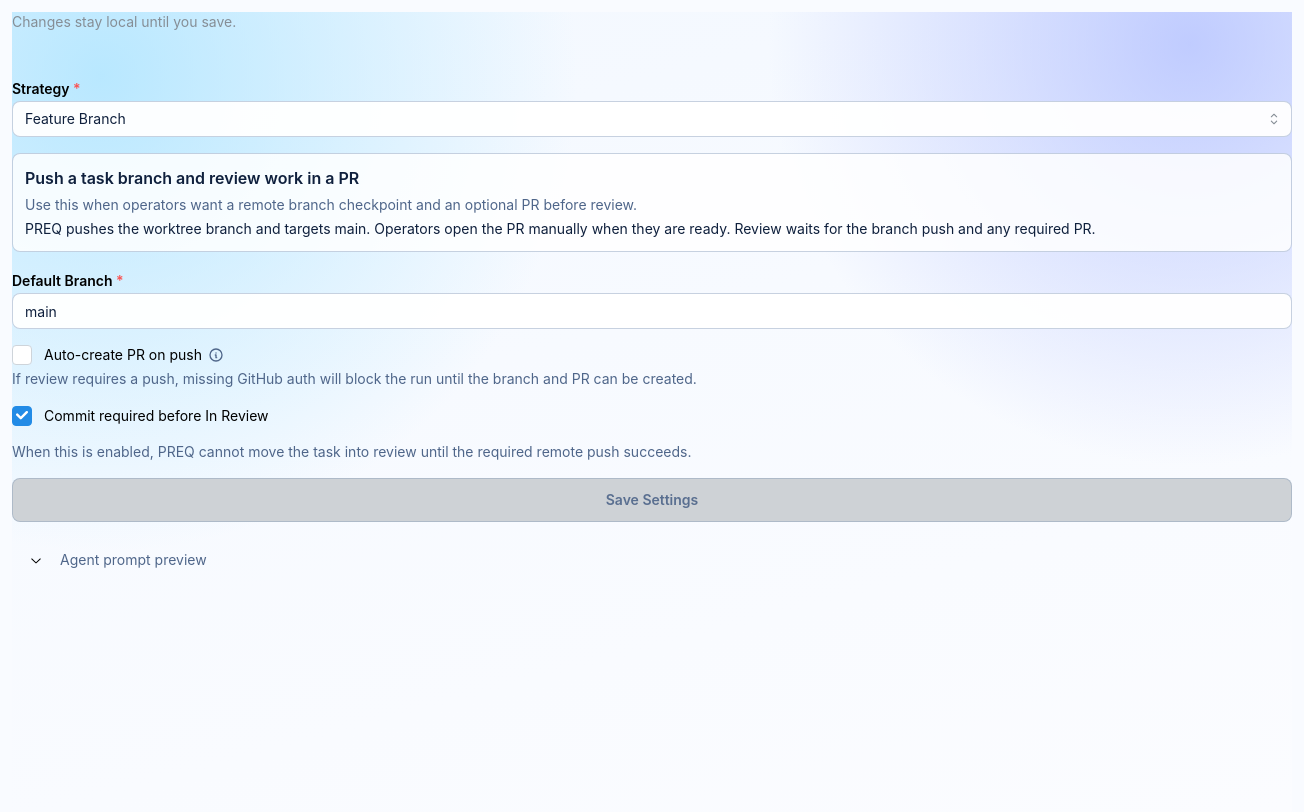
app/components/panels/deploy-settings-panel › keeps the form dirty when edits continue after save starts
Type "release" into the field labelled "Default Branch *" at (652, 311), box top-left (12, 293), bottom-right (1292, 329)
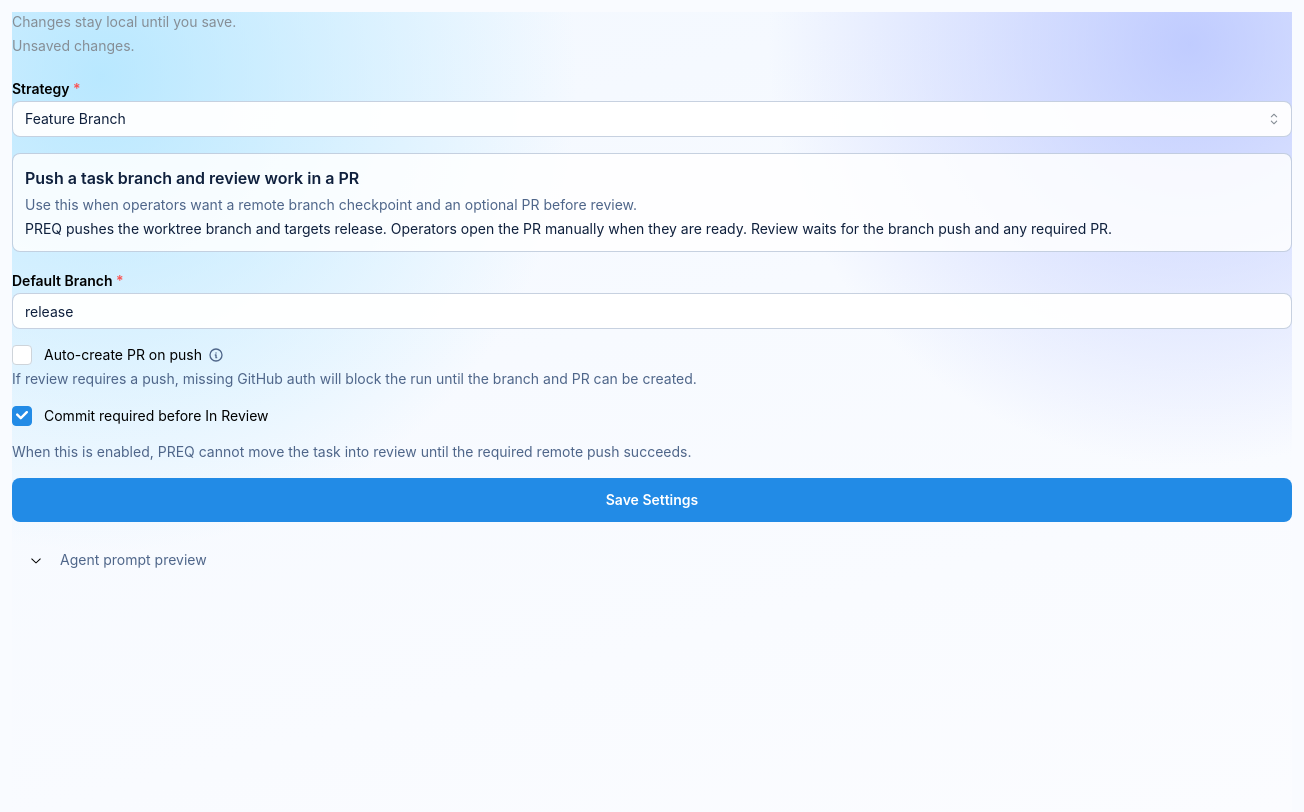
Submit the form named "Default Branch"
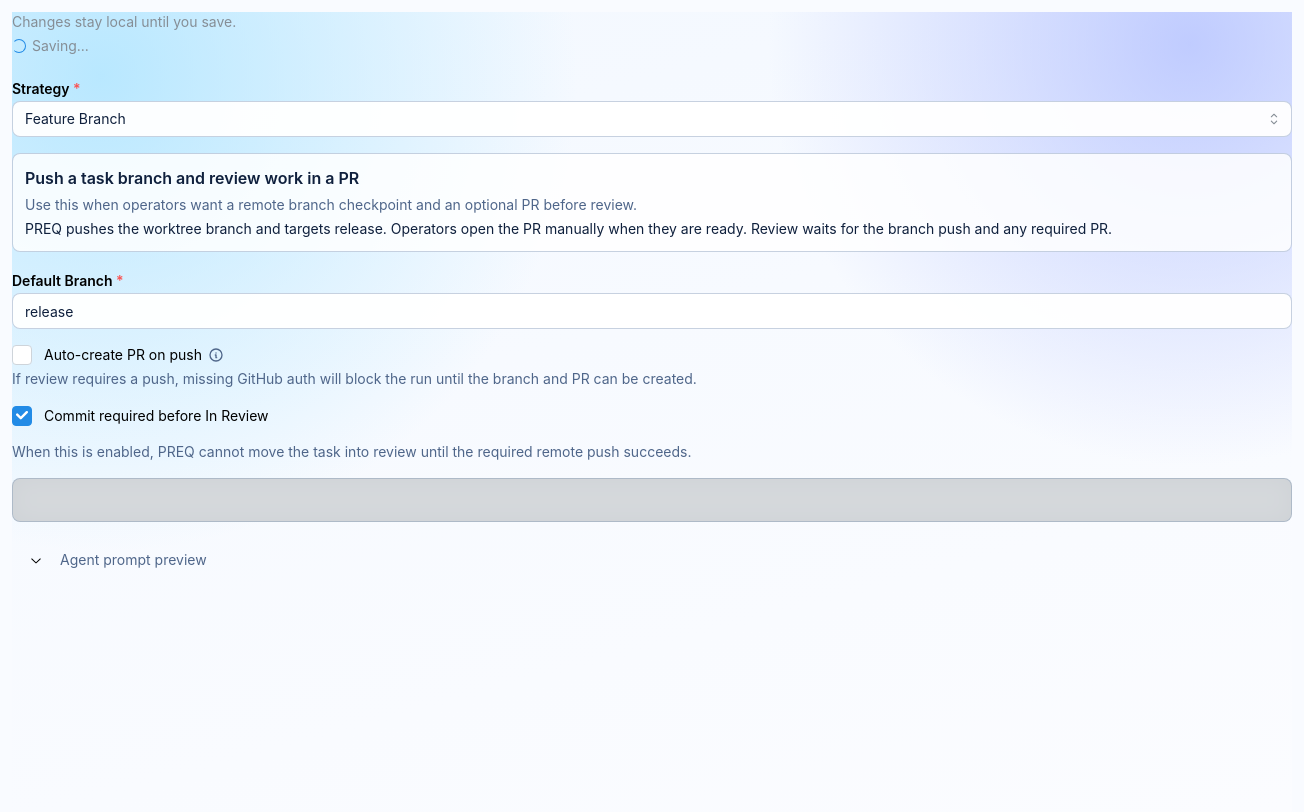
Replace the text in the field labelled "Default Branch *" with "release-candidate" at (652, 311), box top-left (12, 293), bottom-right (1292, 329)
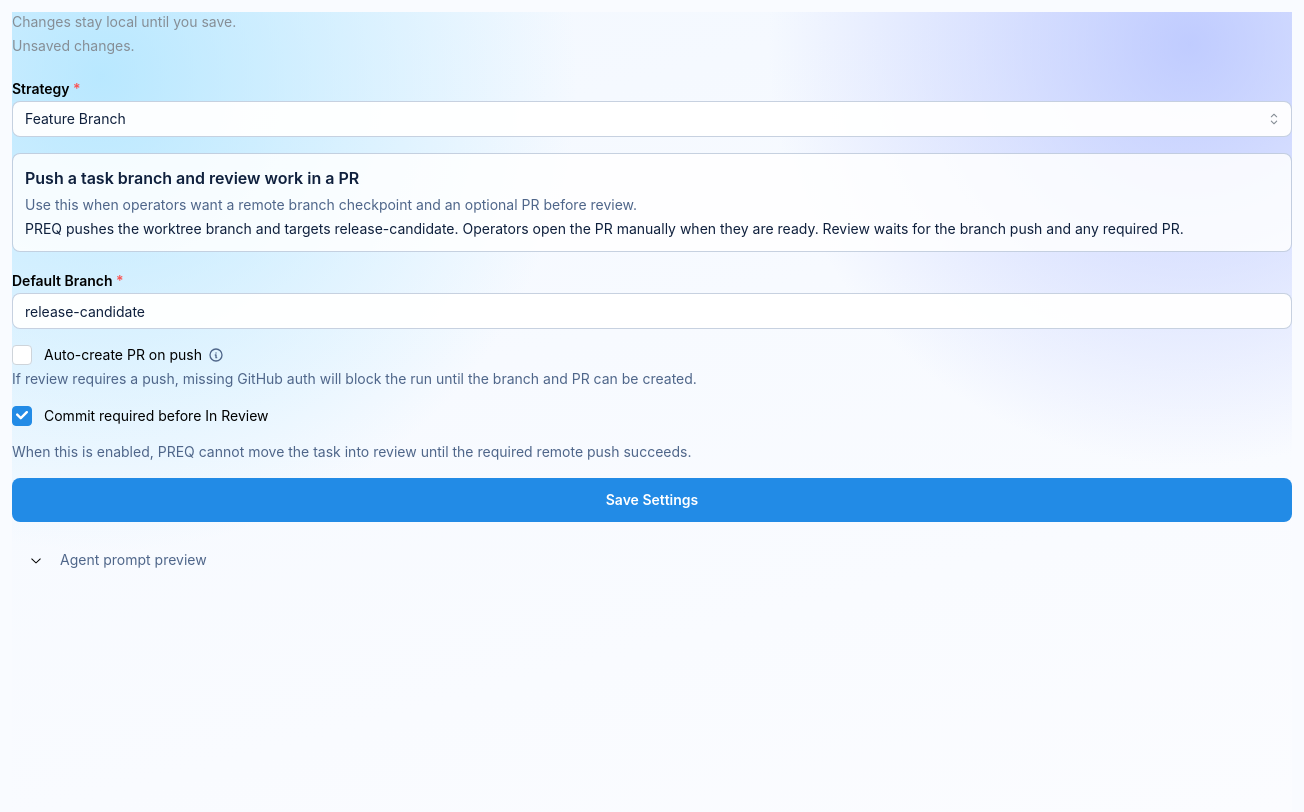
Check: the text "Unsaved changes." is shown, box top-left (12, 37), bottom-right (135, 54)
